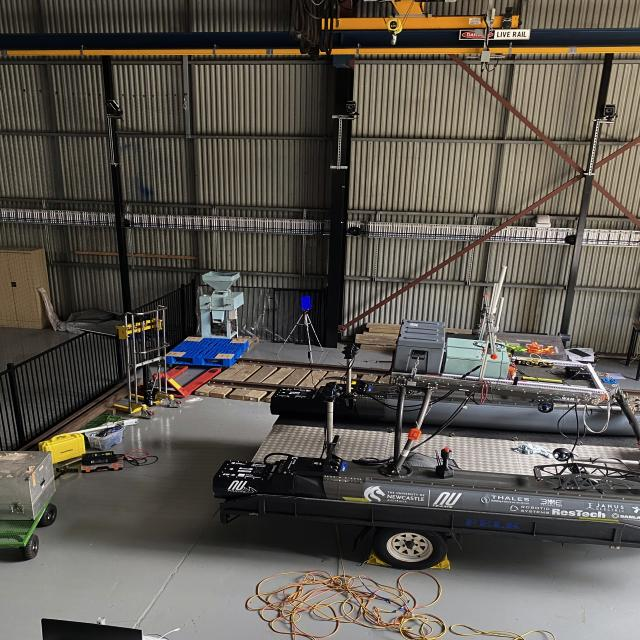matrix: (299, 295, 314, 310)
